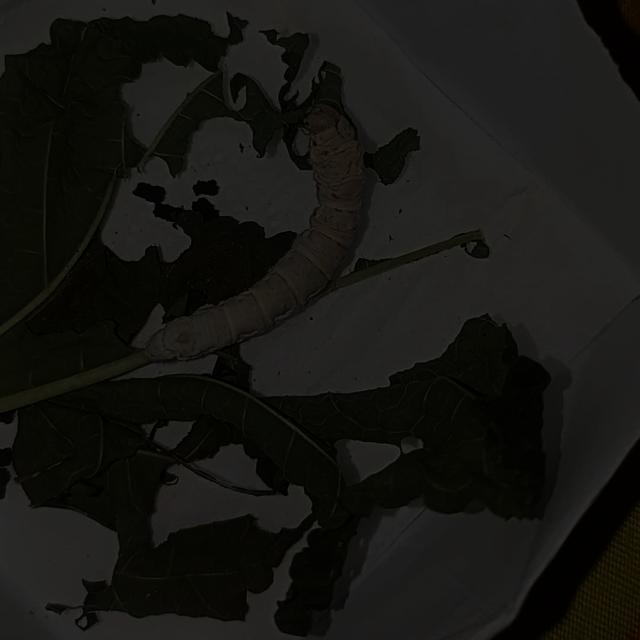Healthy: (132, 104, 382, 363)
